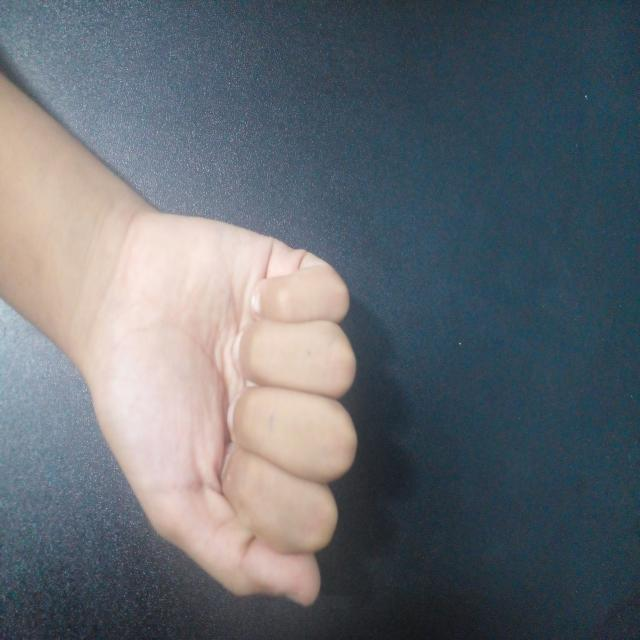Closed Hand: (83, 198, 360, 610)
